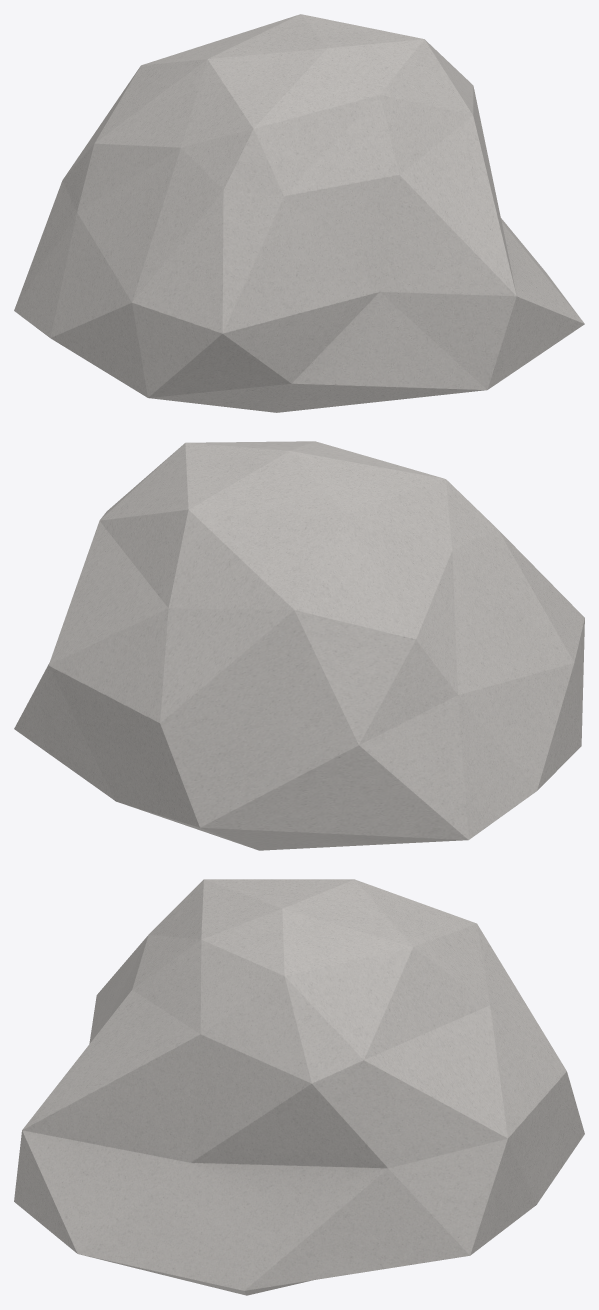
Rendered from stone.glb.
3 renders of one model, top to bottom at view 1: azimuth 30°, elevation 25°; view 2: azimuth 150°, elevation 25°; view 3: azimuth 270°, elevation 25°, orthographic. The views are drawn at different scales.
Parts seen in each view (by area): view 1: Icosphere; view 2: Icosphere; view 3: Icosphere.
Part boxes in pixels (box(x1,y1,x2,y2)): Icosphere: box(14, 14, 584, 412); Icosphere: box(14, 441, 584, 850); Icosphere: box(14, 879, 584, 1295).
Bounding box in the file's own units: 2.83 × 2.02 × 2.87.
Materials: 1 (1 with a texture image).
